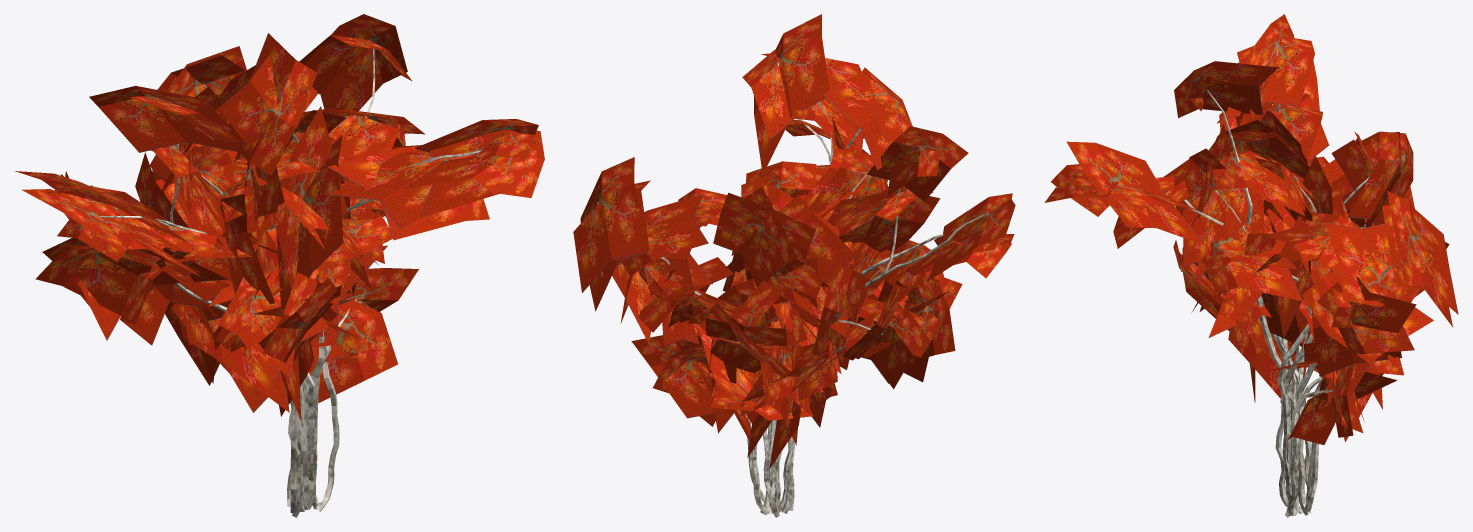
File: bush_0.obj
3 views of the same model, side by side, from view 1: azimuth 30°, elevation 25°; view 2: azimuth 150°, elevation 25°; view 3: azimuth 270°, elevation 25° (orthographic). The views are drawn at different scales.
Parts seen in each view (by area): view 1: Bush_1_0; view 2: Bush_1_0; view 3: Bush_1_0.
Boxes of the visible parts, left/top/right/bottom form: Bush_1_0: left=15, top=14, right=544, bottom=517; Bush_1_0: left=573, top=14, right=1015, bottom=517; Bush_1_0: left=1044, top=14, right=1458, bottom=517.
Size of the model in its own units: 0.6837 by 0.7277 by 0.6371.
Materials: 1 (1 with a texture image).
